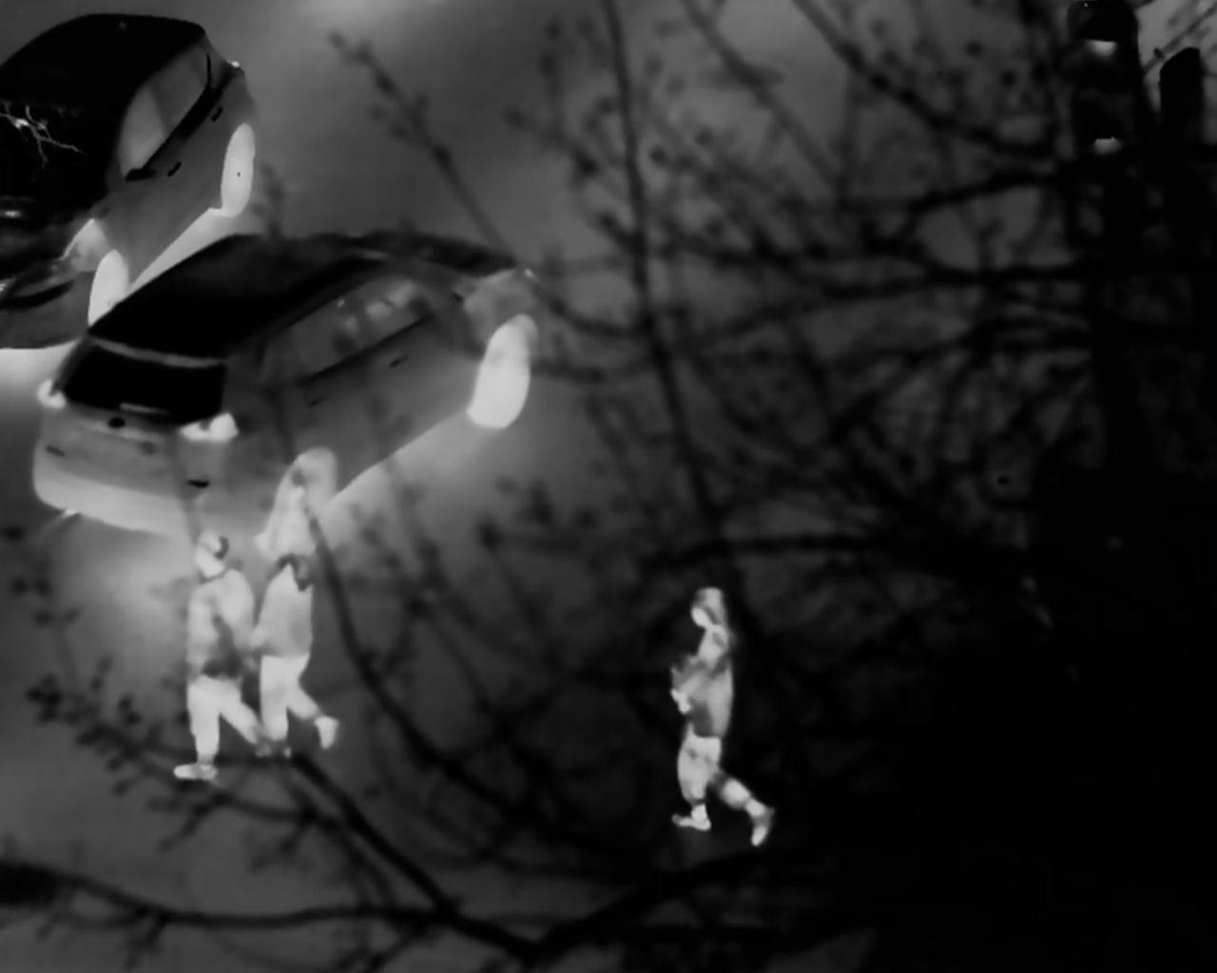person: (667, 590, 773, 844), (243, 500, 334, 757), (181, 527, 253, 755)
